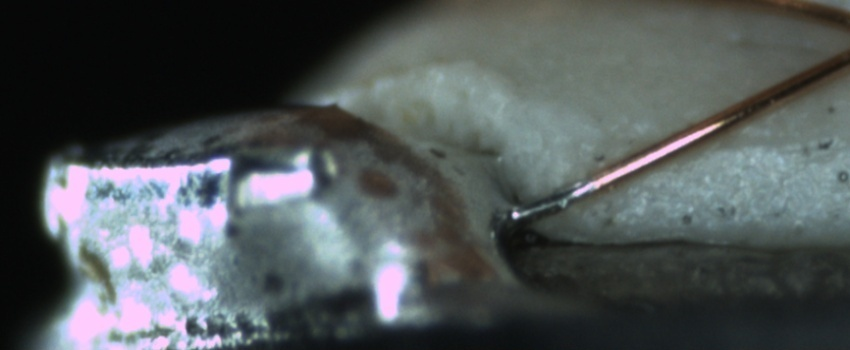DL: (690, 112, 845, 176)
TS: (512, 176, 599, 228)
